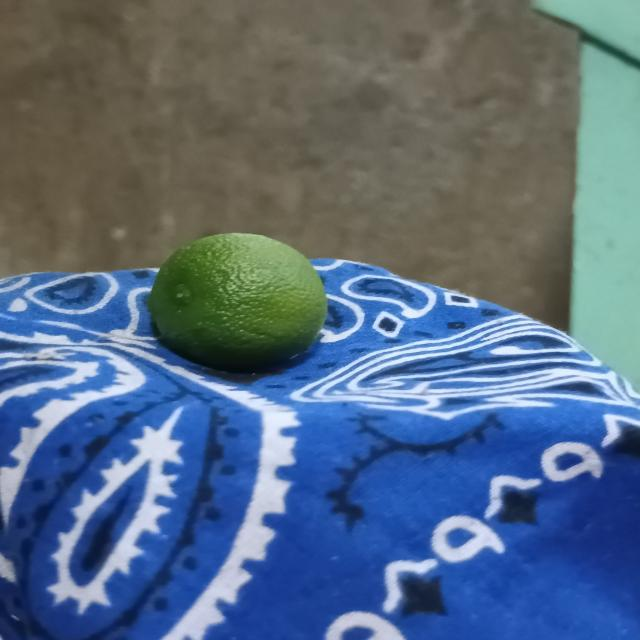heathy: (140, 228, 332, 375)
